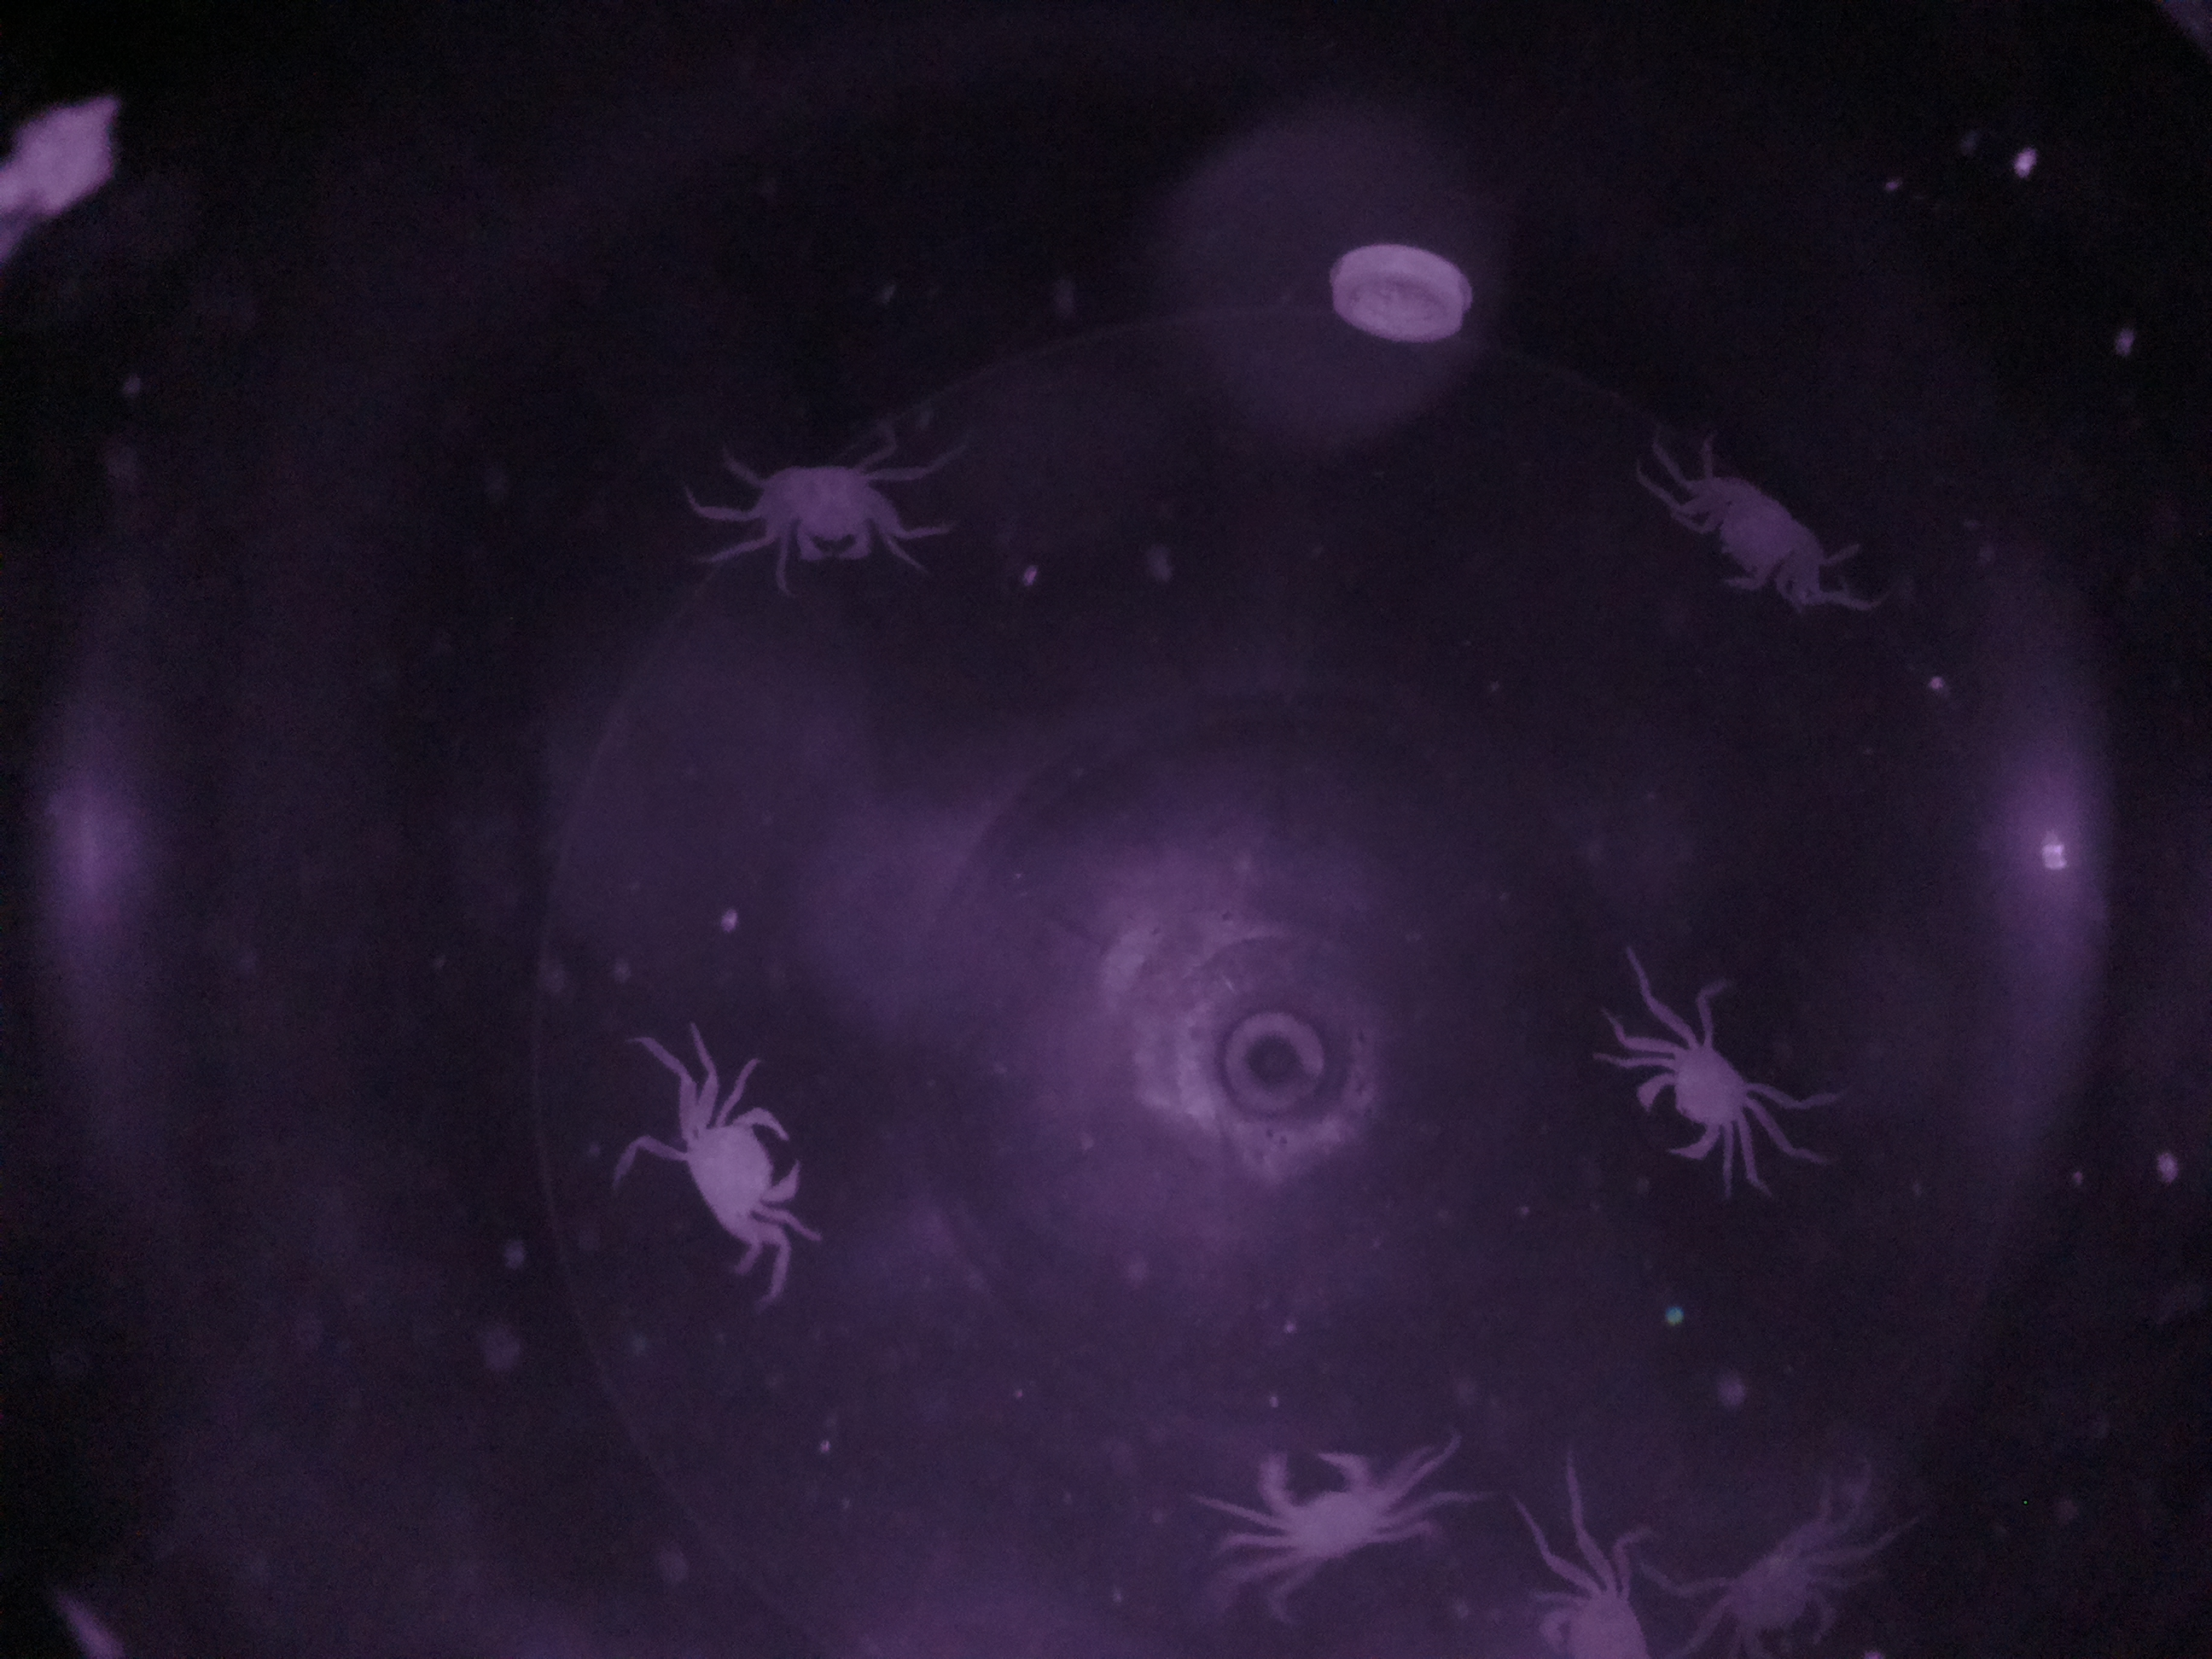Crab: (1670, 458, 1850, 615), (648, 1093, 808, 1260), (1615, 1016, 1759, 1187), (756, 432, 906, 584)
